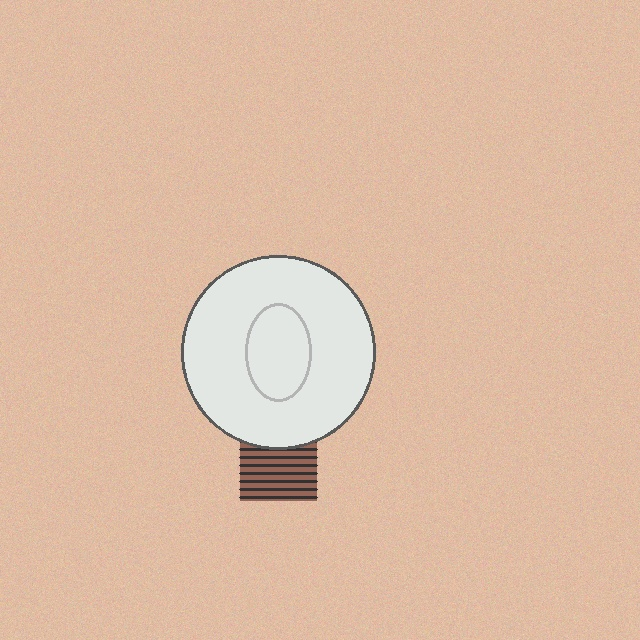bulb: (177, 251, 379, 505)
